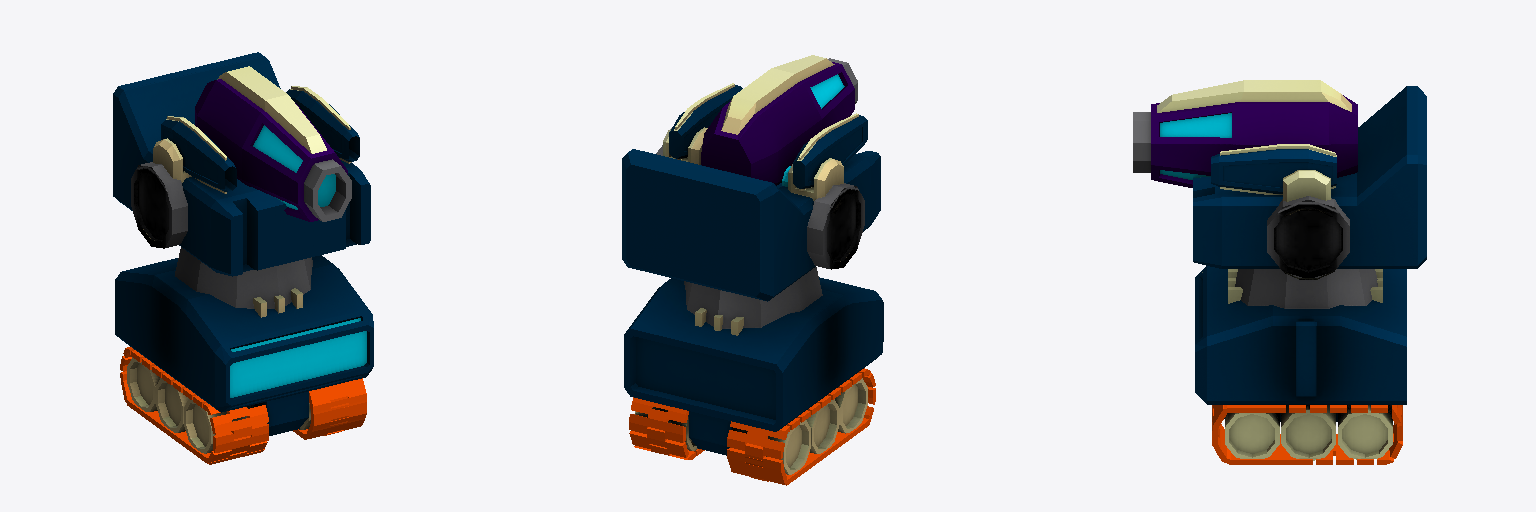
3 renders of one model, left to right at view 1: azimuth 30°, elevation 25°; view 2: azimuth 150°, elevation 25°; view 3: azimuth 270°, elevation 25°, orthographic.
Visible parts, largest first — view 1: Object009, Box029, Object004, Box028; view 2: Object009, Box029, Object004, Box028; view 3: Object009, Object004, Box028.
Boxes of the visible parts, x1,y1,x2,y2 form: Object009: [113, 52, 373, 435]; Box029: [120, 347, 268, 464]; Object004: [127, 174, 310, 453]; Box028: [293, 378, 366, 439]; Object009: [622, 55, 883, 455]; Box029: [727, 368, 875, 485]; Object004: [635, 200, 867, 474]; Box028: [629, 397, 704, 459]; Object009: [1133, 80, 1426, 421]; Object004: [1225, 209, 1392, 460]; Box028: [1212, 405, 1402, 464].
Size of the model in its own units: 211 by 369 by 287.
Materials: 3 (2 with a texture image).